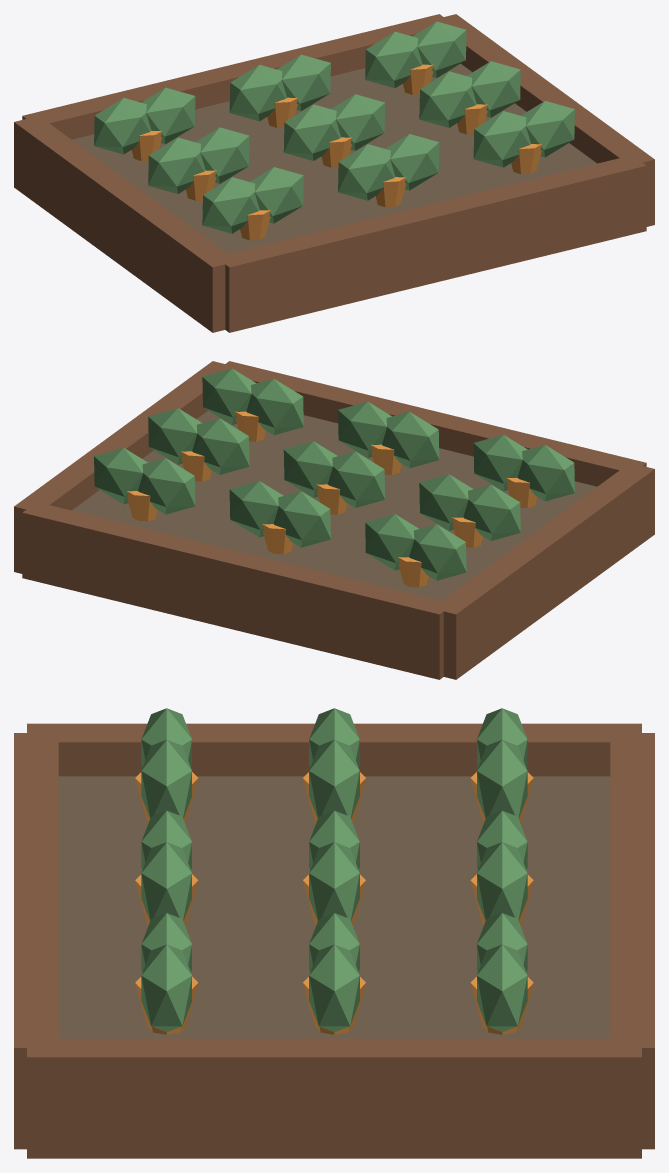
File: garden_plot.glb
3 views of the same model, one above another, from view 1: azimuth 30°, elevation 25°; view 2: azimuth 150°, elevation 25°; view 3: azimuth 270°, elevation 25° (orthographic). The views are drawn at different scales.
Parts seen in each view (by area): view 1: border.002, earth, border, border.003, border.001, sprout.002, sprout.016, sprout.014, sprout, sprout.004, sprout.006, sprout.012 (+20 smaller); view 2: border.003, earth, border, border.002, border.001, sprout.002, sprout.012, sprout.014, sprout, sprout.004, sprout.010, sprout.016 (+20 smaller); view 3: earth, border.001, border, border.003, border.002, sprout.015, sprout.013, sprout.017, sprout.001, sprout.003, sprout.005, sprout.007 (+11 smaller).
Boxes of the visible parts, x1=… form: border.002: x1=215, y1=155, x2=646, y2=332; earth: x1=72, y1=63, x2=596, y2=253; border: x1=14, y1=116, x2=235, y2=332; border.003: x1=22, y1=14, x2=452, y2=139; border.001: x1=431, y1=14, x2=654, y2=226; sprout.002: x1=148, y1=137, x2=205, y2=193; sprout.016: x1=365, y1=31, x2=422, y2=88; sprout.014: x1=419, y1=71, x2=476, y2=127; sprout: x1=202, y1=177, x2=259, y2=233; sprout.004: x1=94, y1=98, x2=151, y2=154; sprout.006: x1=338, y1=144, x2=395, y2=200; sprout.012: x1=473, y1=111, x2=530, y2=167; border.003: x1=22, y1=502, x2=453, y2=679; earth: x1=72, y1=410, x2=596, y2=600; border: x1=434, y1=464, x2=654, y2=679; border.002: x1=217, y1=361, x2=646, y2=486; border.001: x1=14, y1=361, x2=237, y2=573; sprout.002: x1=463, y1=484, x2=520, y2=540; sprout.012: x1=246, y1=378, x2=303, y2=435; sprout.014: x1=192, y1=418, x2=249, y2=474; sprout: x1=517, y1=445, x2=574, y2=501; sprout.004: x1=409, y1=524, x2=466, y2=580; sprout.010: x1=273, y1=491, x2=330, y2=547; sprout.016: x1=138, y1=458, x2=195, y2=514; earth: x1=58, y1=776, x2=610, y2=1038; border.001: x1=27, y1=1038, x2=641, y2=1158; border: x1=27, y1=723, x2=641, y2=776; border.003: x1=610, y1=733, x2=654, y2=1149; border.002: x1=14, y1=733, x2=58, y2=1149; sprout.015: x1=309, y1=944, x2=359, y2=1031; sprout.013: x1=141, y1=944, x2=191, y2=1031; sprout.017: x1=477, y1=944, x2=527, y2=1031; sprout.001: x1=141, y1=739, x2=191, y2=818; sprout.003: x1=309, y1=740, x2=359, y2=818; sprout.005: x1=477, y1=739, x2=527, y2=818; sprout.007: x1=141, y1=842, x2=191, y2=920.
Size of the model in its own units: 2.12 by 0.49 by 1.72.
